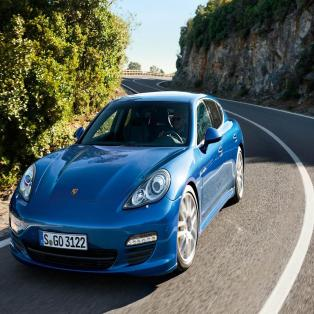Auto: (9, 85, 248, 282)
